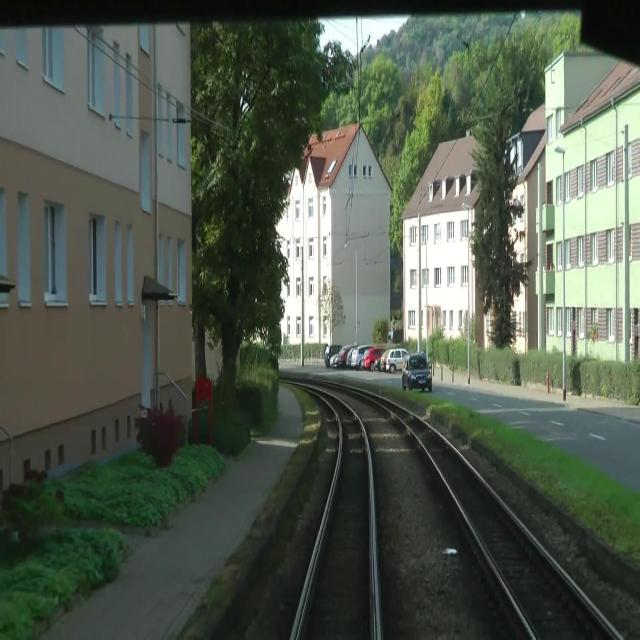rail-track: (386, 404, 617, 639), (296, 397, 376, 639)
